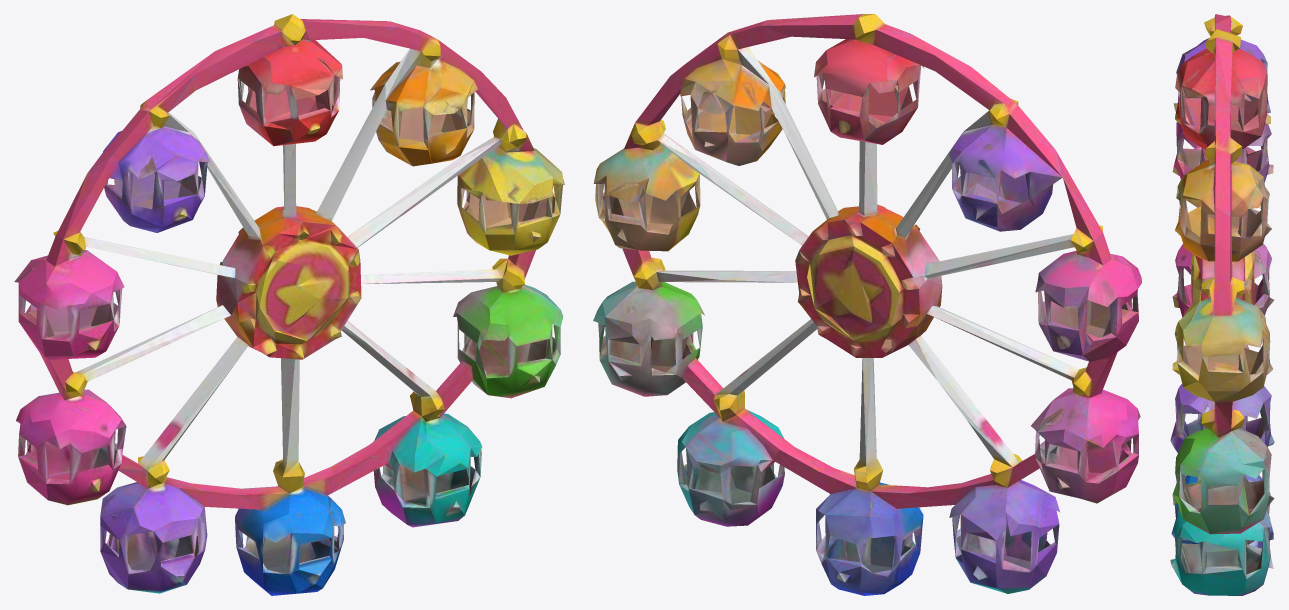
File: wheel.glb
3 views of the same model, side by side, from view 1: azimuth 30°, elevation 25°; view 2: azimuth 150°, elevation 25°; view 3: azimuth 270°, elevation 25° (orthographic). The views are drawn at different scales.
Size of the model in its own units: 1.84 by 1.89 by 0.3395.
1 material, 1 textured.
